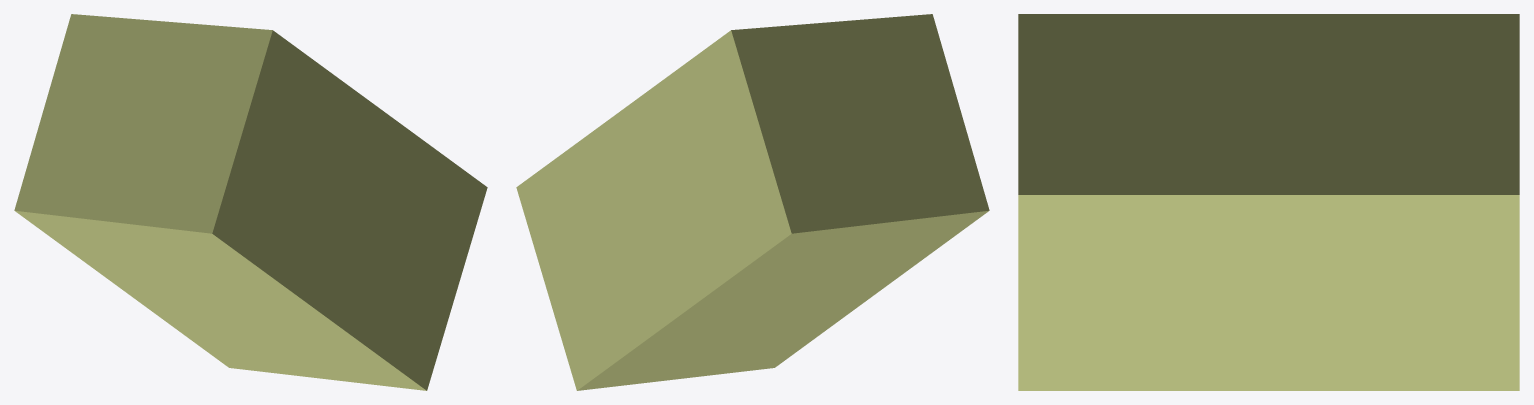
3 views of the same model, side by side, from view 1: azimuth 30°, elevation 25°; view 2: azimuth 150°, elevation 25°; view 3: azimuth 270°, elevation 25° (orthographic). The views are drawn at different scales.
Parts seen in each view (by area): view 1: 0_0_1_3_2_2_3_2_3_3; view 2: 0_0_1_3_2_2_3_2_3_3; view 3: 0_0_1_3_2_2_3_2_3_3.
Part boxes in pixels (x1,y1,x2,y2): 0_0_1_3_2_2_3_2_3_3: (14, 14, 487, 390); 0_0_1_3_2_2_3_2_3_3: (516, 14, 989, 390); 0_0_1_3_2_2_3_2_3_3: (1018, 14, 1519, 390).
Bounding box in the file's own units: 6.25 × 5.87 × 9.
